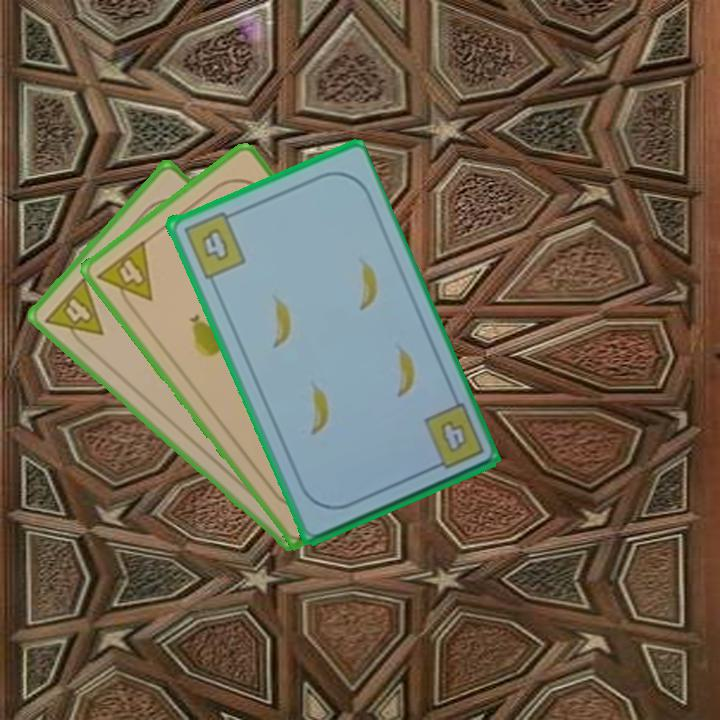4b: (179, 207, 248, 281), (419, 400, 487, 475)
4p: (40, 273, 107, 354), (93, 236, 156, 316)
